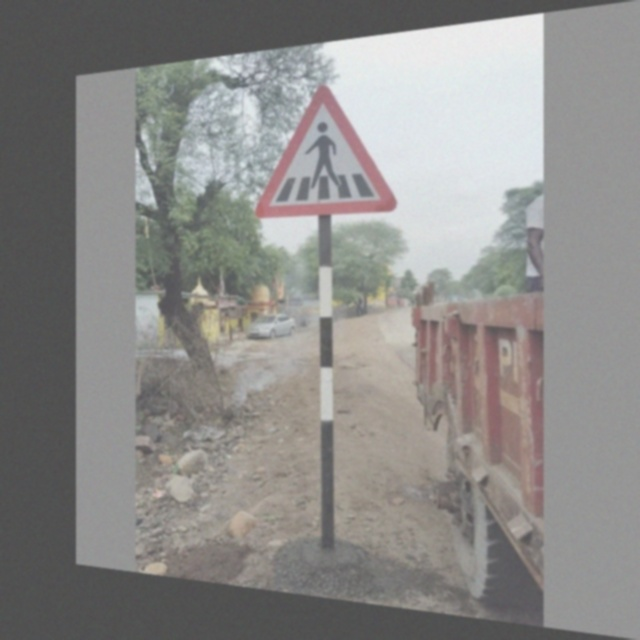Pedestrian_Crossing: (258, 65, 403, 220)
